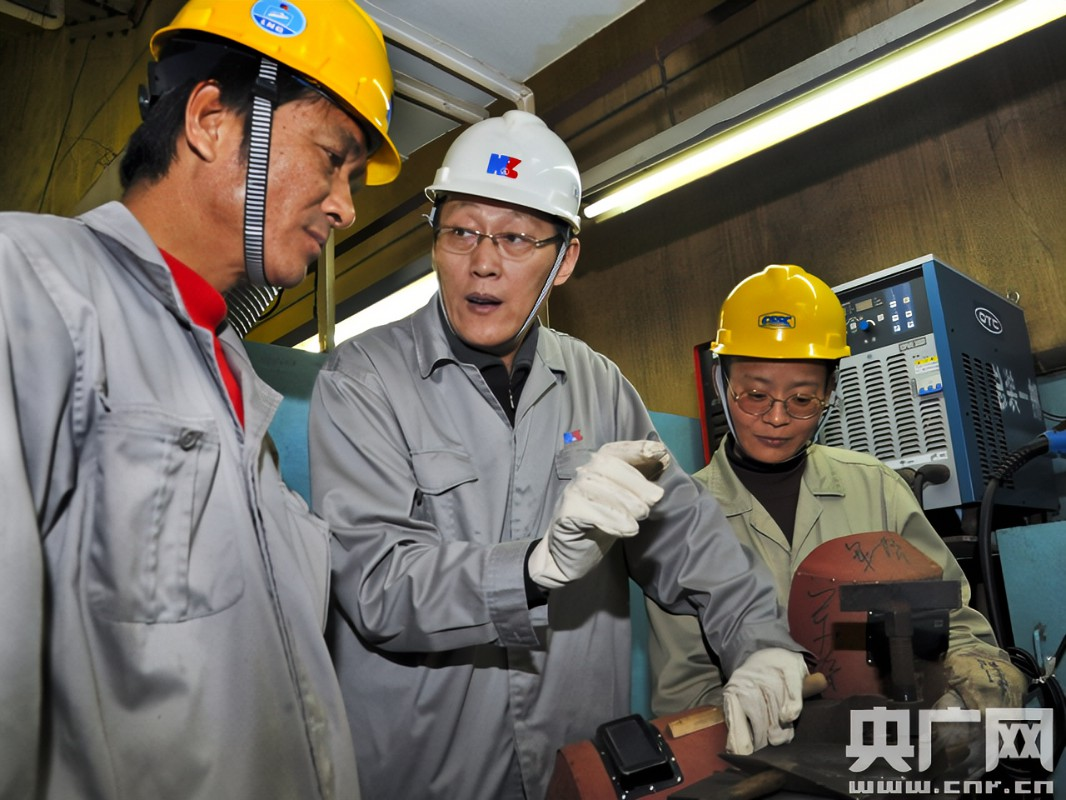safetyhat: (36, 1, 419, 620), (378, 101, 667, 637), (699, 252, 891, 585)
